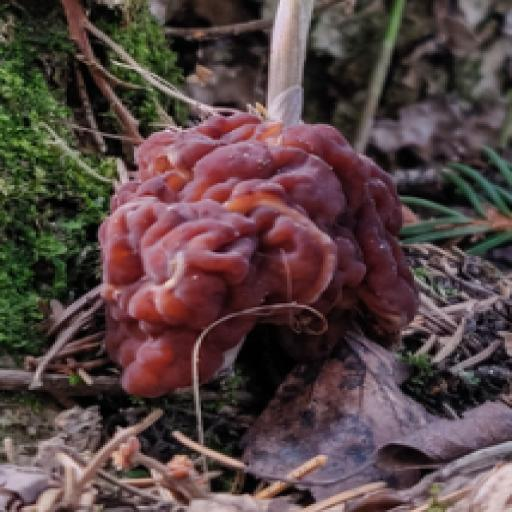False Morel: (71, 77, 423, 392)
